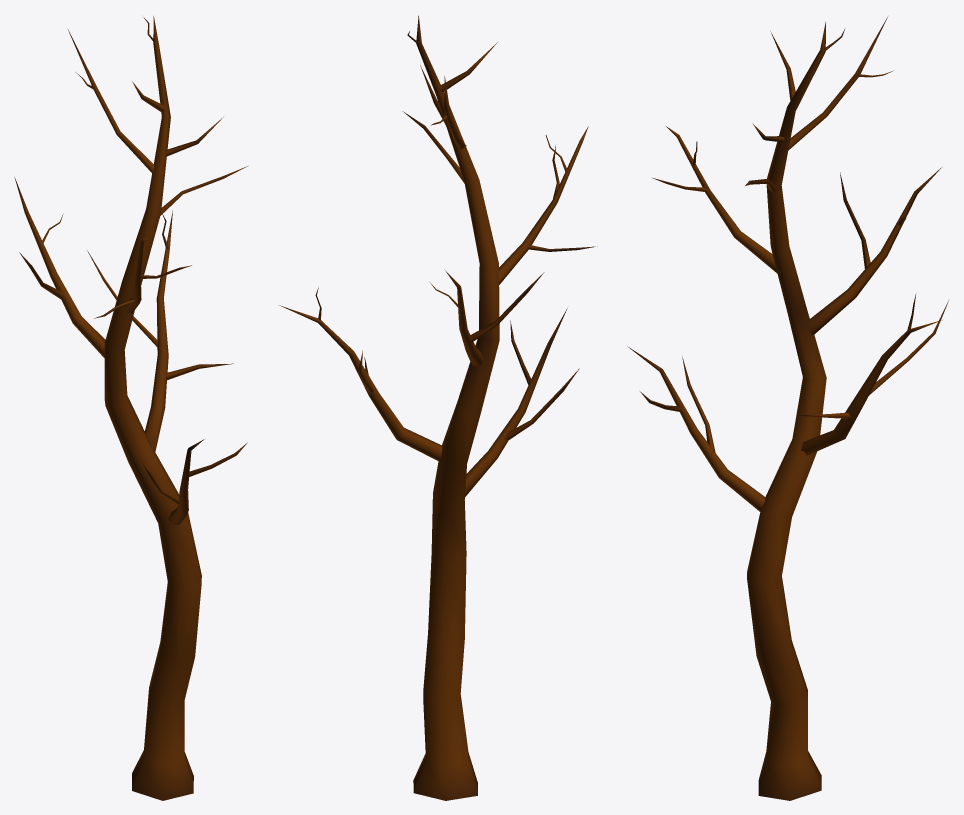
Rendered from tree.fbx.
3 renders of one model, left to right at view 1: azimuth 30°, elevation 25°; view 2: azimuth 150°, elevation 25°; view 3: azimuth 270°, elevation 25°, orthographic. The views are drawn at different scales.
Visible parts, largest first — view 1: tree; view 2: tree; view 3: tree.
Boxes of the visible parts, left/top/right/bottom form: tree: left=14, top=16, right=247, bottom=800; tree: left=279, top=15, right=597, bottom=800; tree: left=627, top=17, right=949, bottom=800.
Size of the model in its own units: 533 by 1875 by 712.
